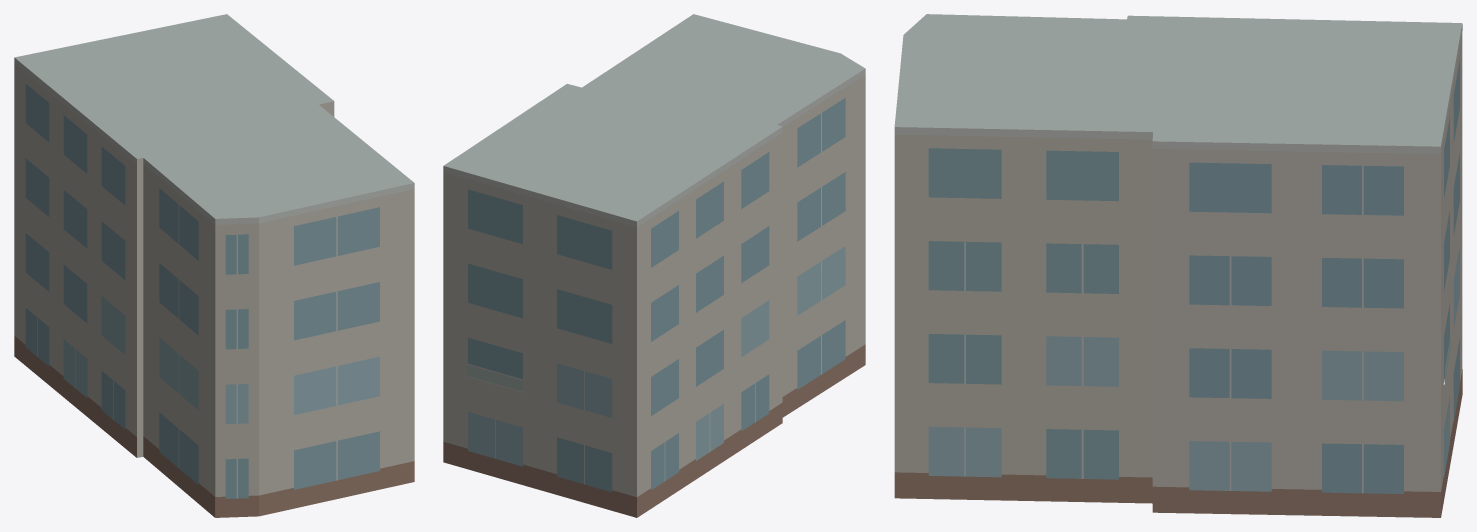
The model's file is survey-upis-32665493.glb.
3 renders of one model, left to right at view 1: azimuth 30°, elevation 25°; view 2: azimuth 150°, elevation 25°; view 3: azimuth 270°, elevation 25°, orthographic. The views are drawn at different scales.
Parts seen in each view (by area): view 1: survey-upis-32665493.tmp; view 2: survey-upis-32665493.tmp; view 3: survey-upis-32665493.tmp.
Part boxes in pixels (x1,y1,x2,y2): survey-upis-32665493.tmp: (14, 14, 414, 517); survey-upis-32665493.tmp: (443, 14, 865, 517); survey-upis-32665493.tmp: (894, 14, 1462, 517).
Size of the model in its own units: 9.35 by 12.2 by 16.92.
